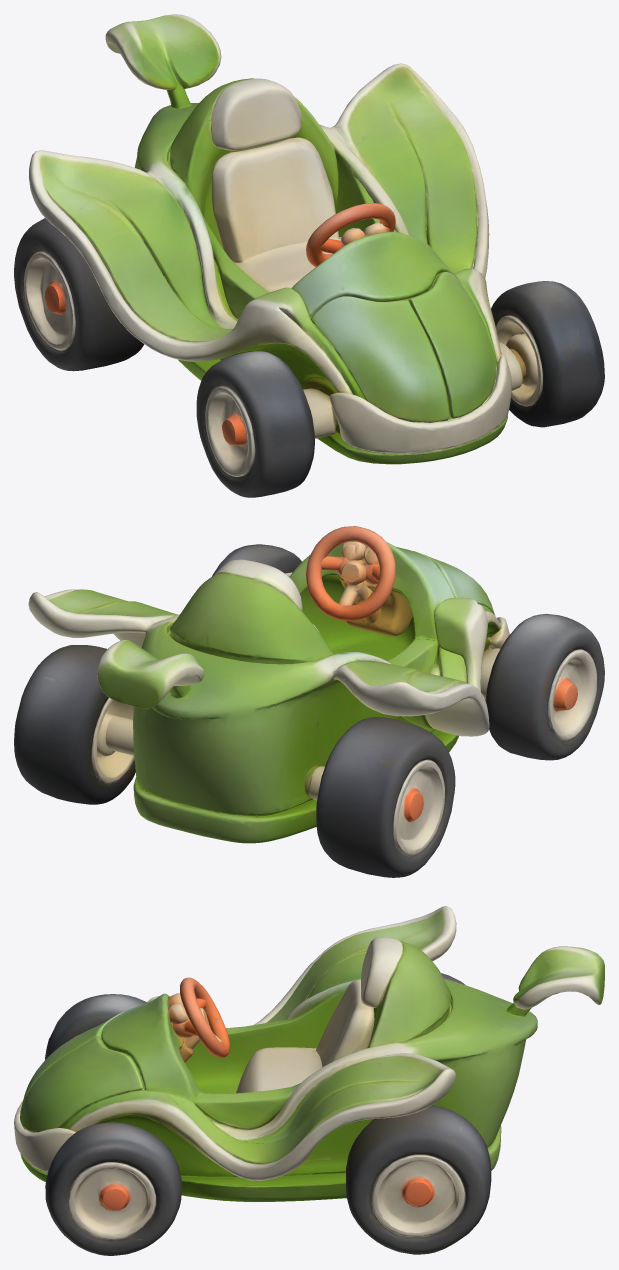
The model's file is sprout-cartoon-runtime.glb.
3 views of the same model, one above another, from view 1: azimuth 30°, elevation 25°; view 2: azimuth 150°, elevation 25°; view 3: azimuth 270°, elevation 25° (orthographic). The views are drawn at different scales.
Visible parts, largest first — view 1: model; view 2: model; view 3: model.
Boxes of the visible parts, x1,y1,x2,y2 form: model: (14, 14, 604, 497); model: (14, 526, 604, 877); model: (14, 906, 604, 1255).
Size of the model in its own units: 1.38 by 0.8516 by 1.9.
Materials: 1 (1 with a texture image).
